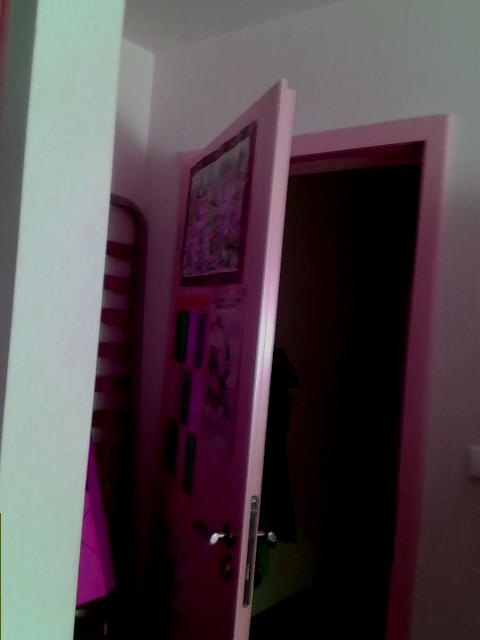semi_door: (162, 74, 450, 635)
